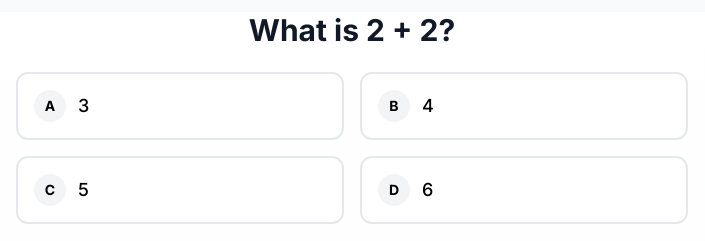
Test: MultipleChoice › shows X on wrong answer after selection
Click the text "3": (84, 106) [78,92,89,120]
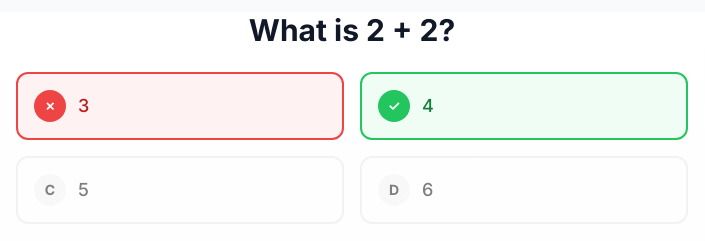
expect the text "✗" is shown: met, box [34,90,66,122]
